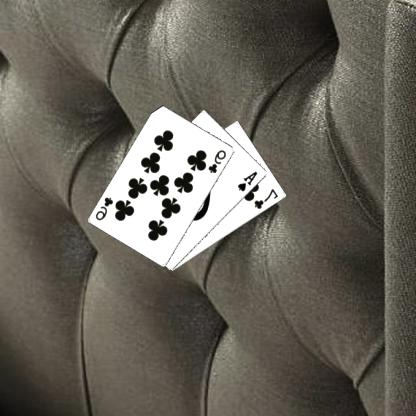7C: (253, 186, 281, 210)
9C: (94, 194, 116, 222), (207, 148, 230, 174)
AS: (237, 168, 261, 192)
